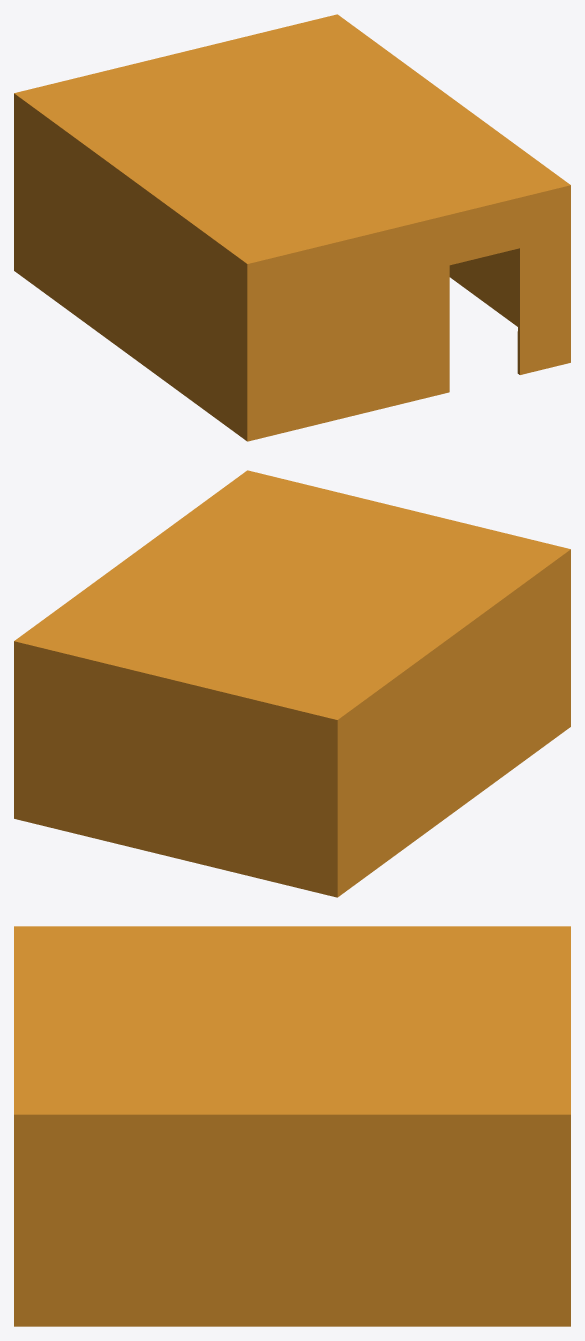
Rendered from igraonica.fbx.
3 renders of one model, top to bottom at view 1: azimuth 30°, elevation 25°; view 2: azimuth 150°, elevation 25°; view 3: azimuth 270°, elevation 25°, orthographic. The views are drawn at different scales.
Visible parts, largest first — view 1: Cube.001; view 2: Cube.001; view 3: Cube.001.
Part boxes in pixels (bbox=[...]): Cube.001: bbox=[14, 14, 570, 441]; Cube.001: bbox=[14, 470, 570, 897]; Cube.001: bbox=[14, 926, 570, 1326].
Size of the model in its own units: 1600 by 839 by 2000.
